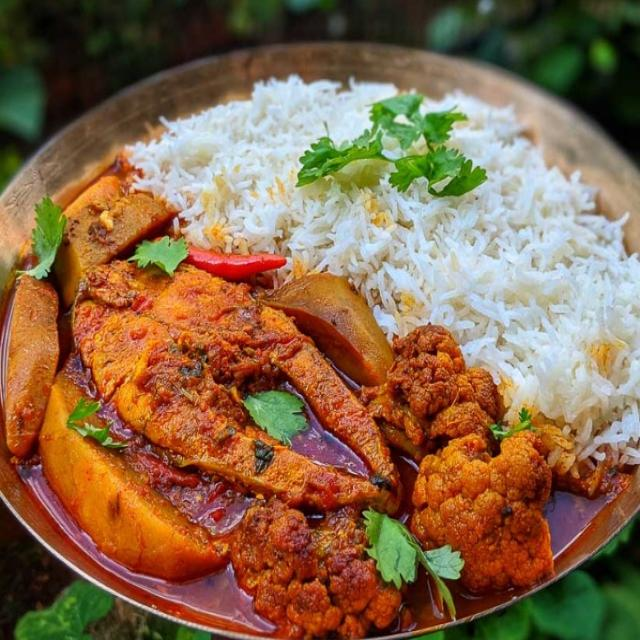CURRY: (231, 325, 556, 638)
FISH CURRY: (0, 163, 399, 579)
RICE: (130, 76, 639, 462)
